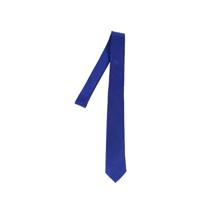tie: (75, 32, 126, 183)
